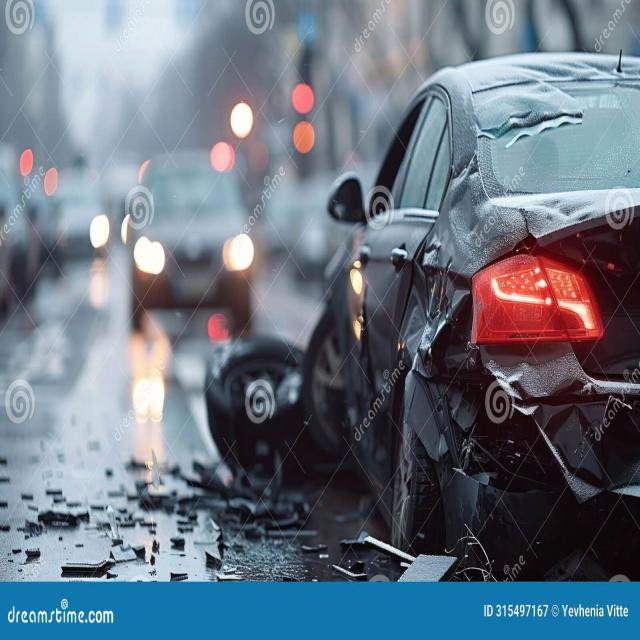Accident: (205, 43, 640, 581)
